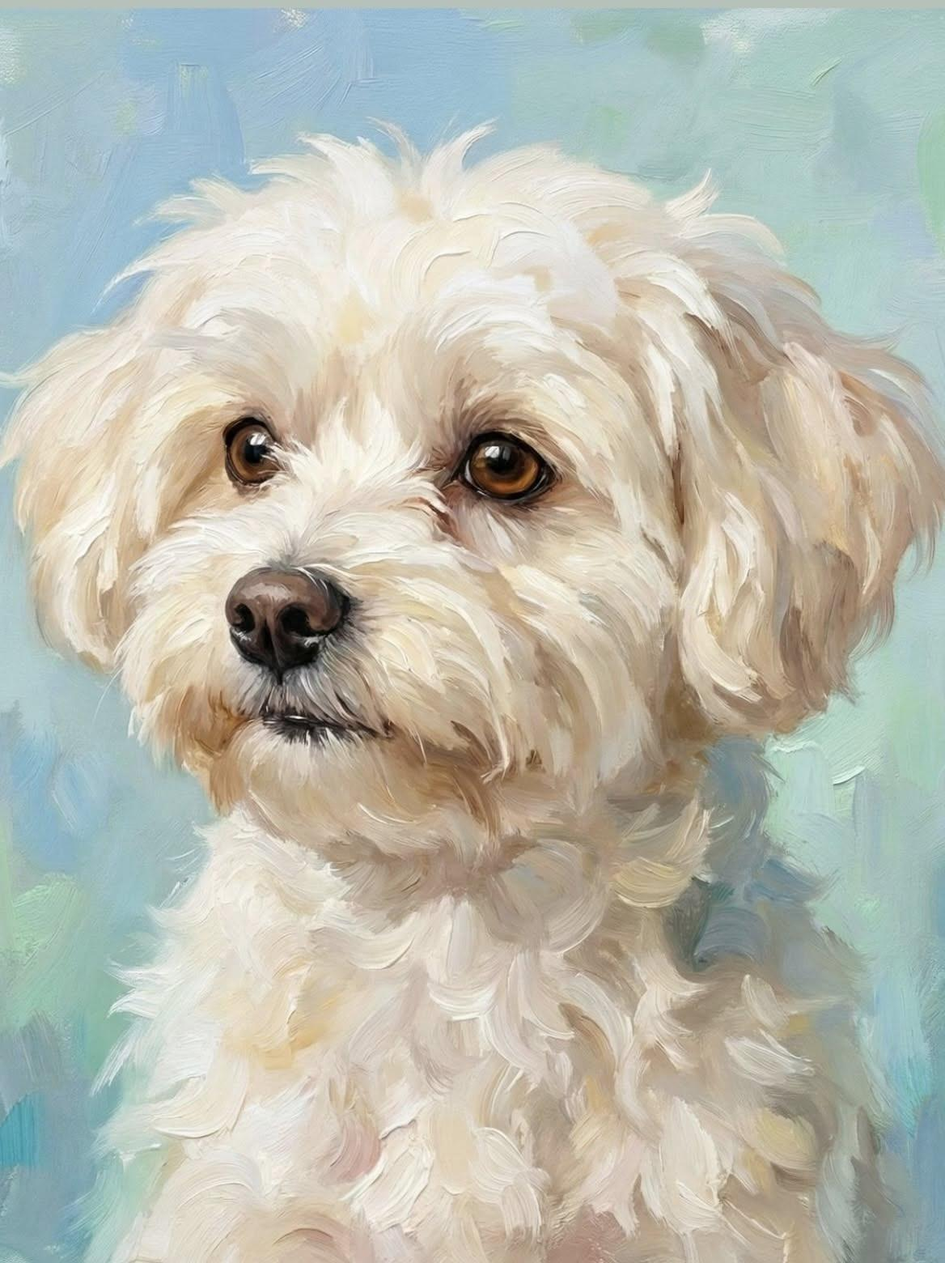adult_dog: (2, 114, 943, 1263)
